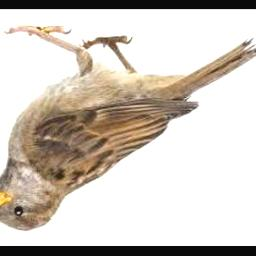Sparrow: (0, 26, 256, 231)
